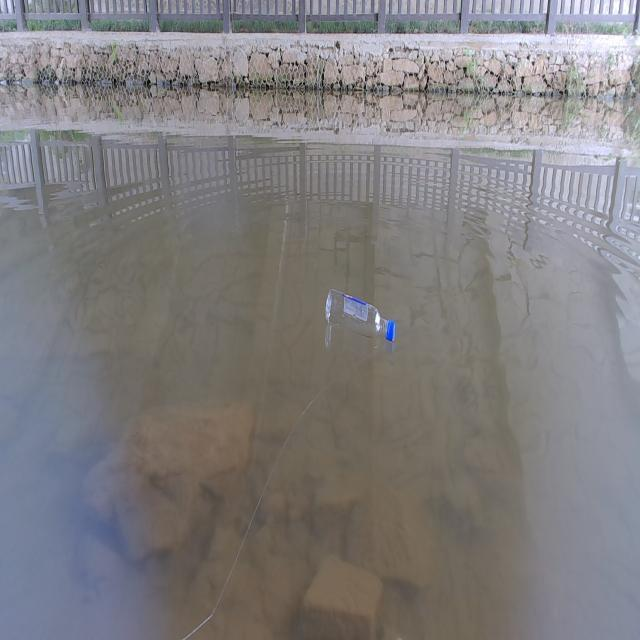garbage: (324, 287, 396, 341)
